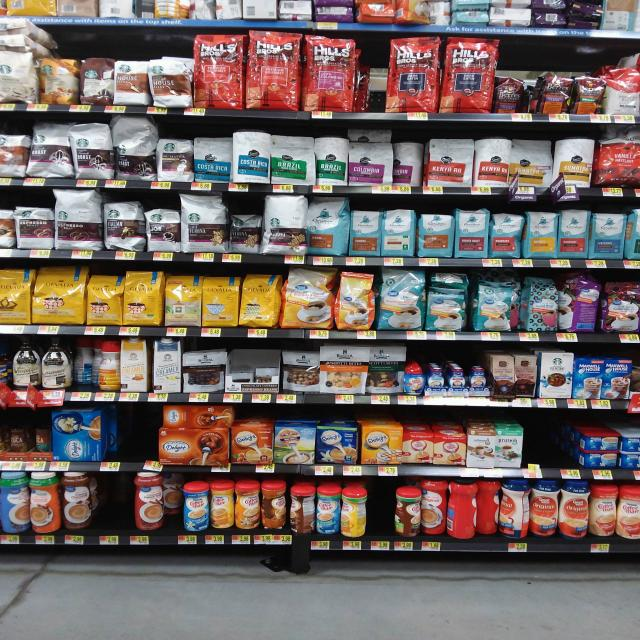unorganised: (513, 141, 552, 188), (494, 74, 529, 116), (68, 340, 95, 385), (231, 214, 260, 252), (161, 471, 182, 515), (344, 130, 394, 145)
